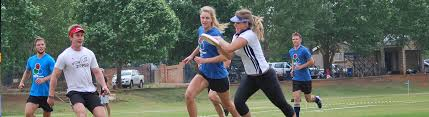disc: (201, 31, 221, 51)
